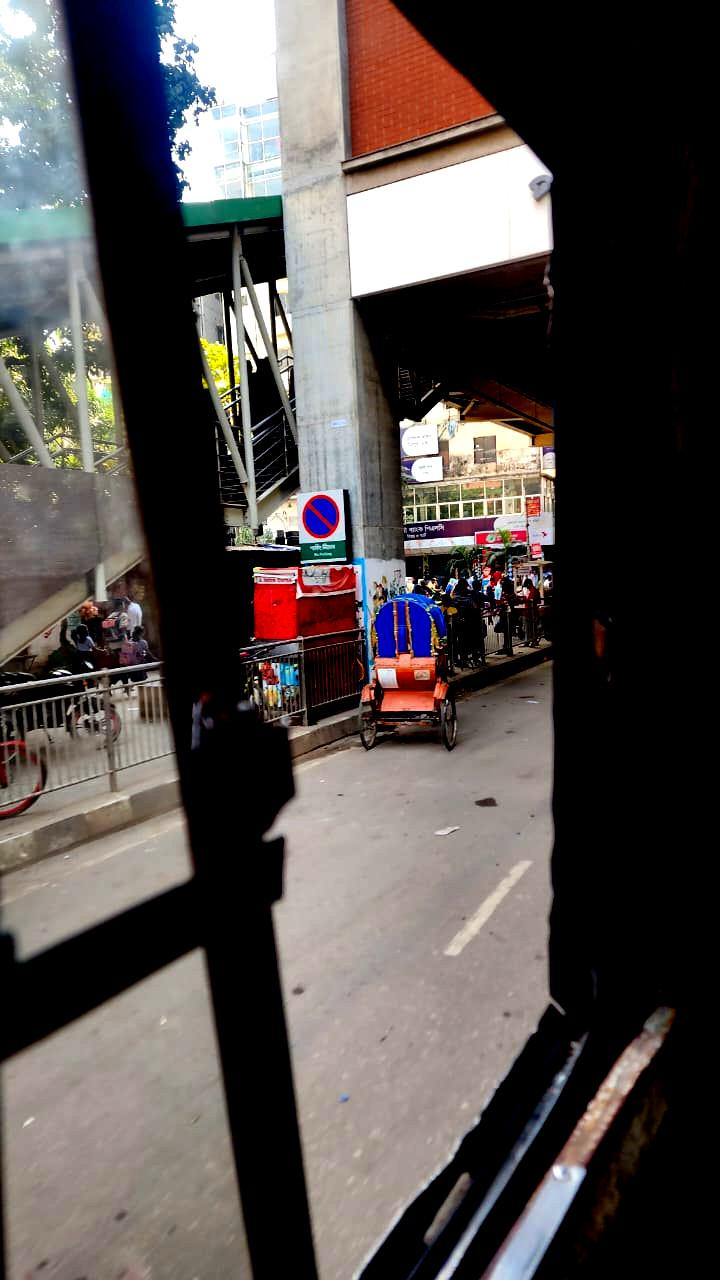No Parking: (278, 482, 366, 562)
